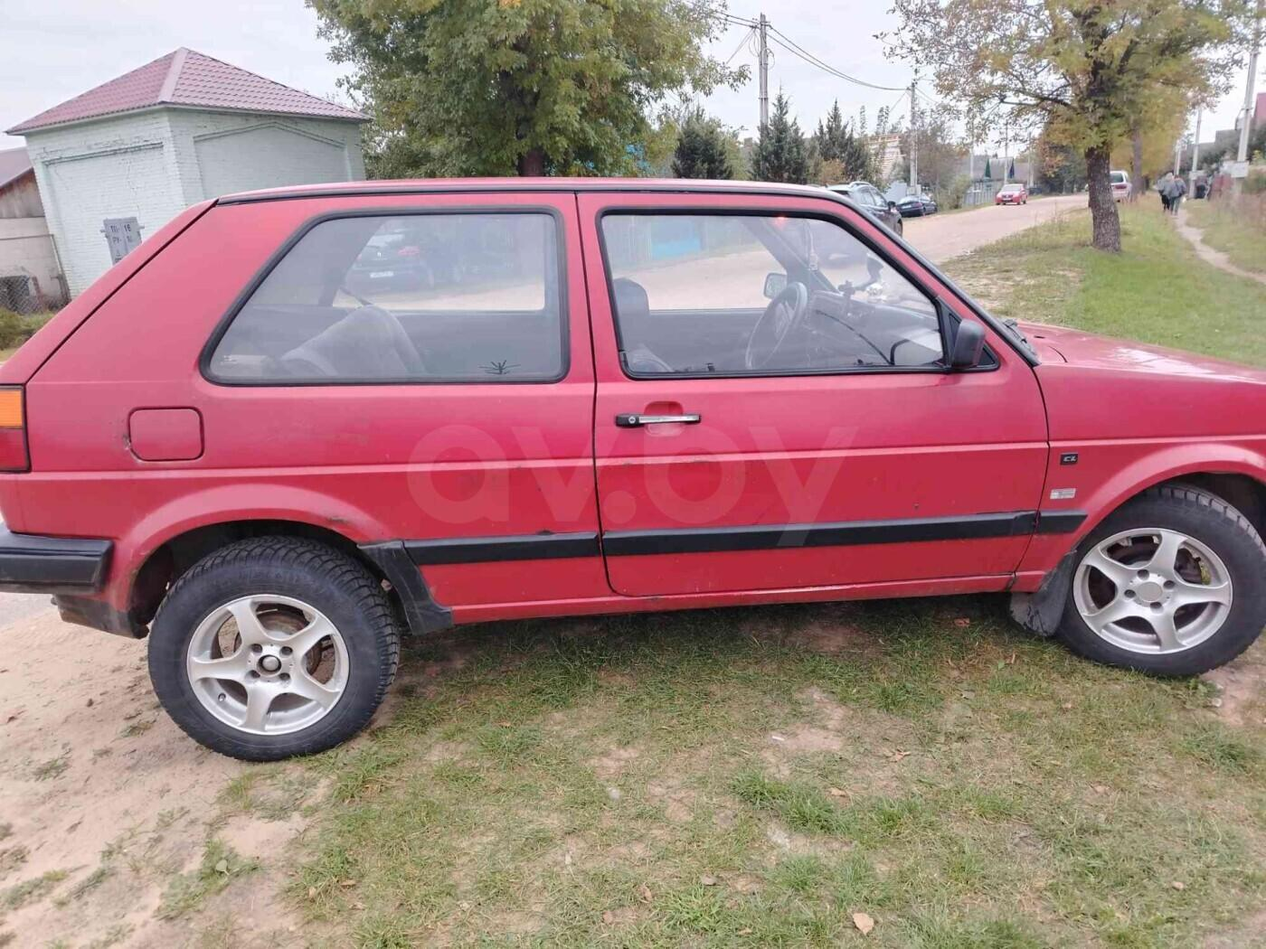Golf_1983-1992: (0, 169, 1266, 763)
